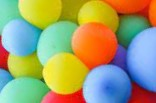Balloon: (125, 27, 156, 90), (82, 64, 132, 103), (41, 53, 87, 94), (71, 23, 116, 63), (1, 19, 41, 56), (1, 77, 49, 103), (17, 1, 63, 27), (76, 1, 118, 29)
